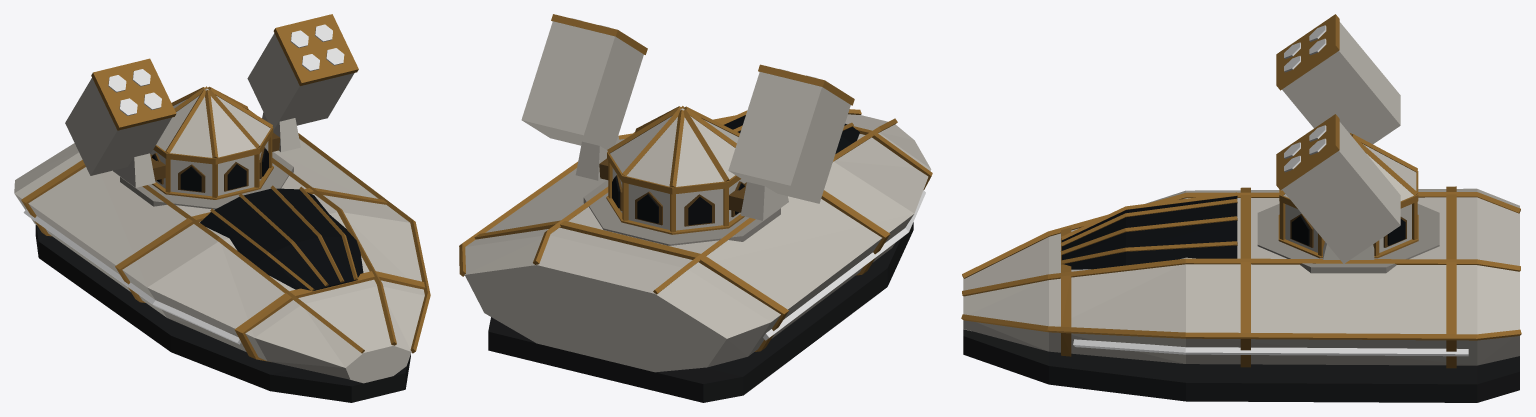
The picture shows the model from 3 angles, left to right: view 1: azimuth 30°, elevation 25°; view 2: azimuth 150°, elevation 25°; view 3: azimuth 270°, elevation 25°; orthographic projection. The views are drawn at different scales.
Visible parts, largest first — view 1: body, top; view 2: body, top; view 3: body, top.
Part boxes in pixels (<box>): body: <box>14,133,430,402</box>; top: <box>65,14,358,199</box>; body: <box>459,109,932,402</box>; top: <box>521,14,854,234</box>; body: <box>961,186,1521,402</box>; top: <box>1276,14,1418,263</box>.
Bounding box in the file's own units: 4.2 × 3.48 × 6.55.
